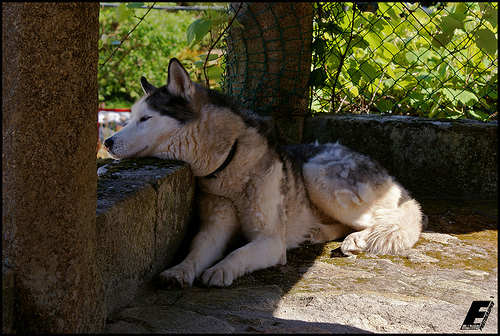dog: (104, 55, 424, 289)
